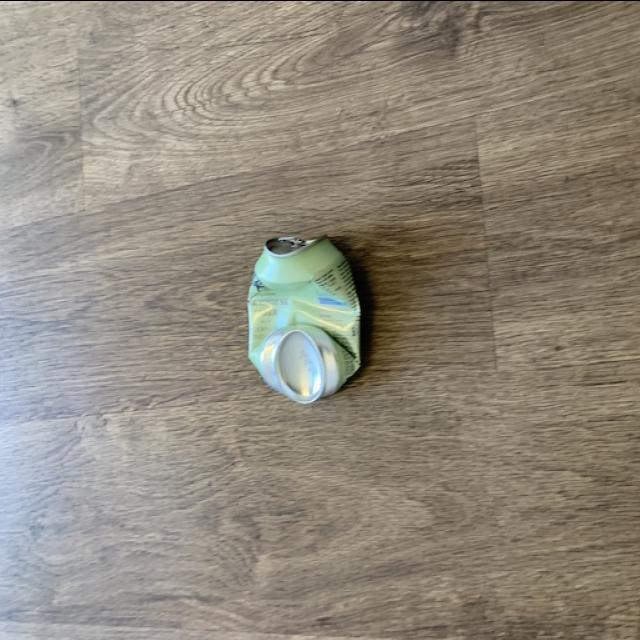Aluminum Can: (220, 200, 372, 421)
